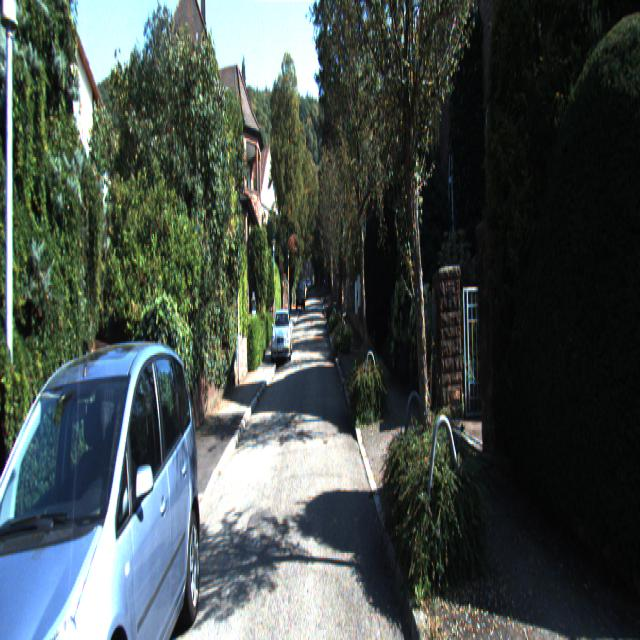Car: (0, 324, 205, 638), (270, 312, 292, 369)
